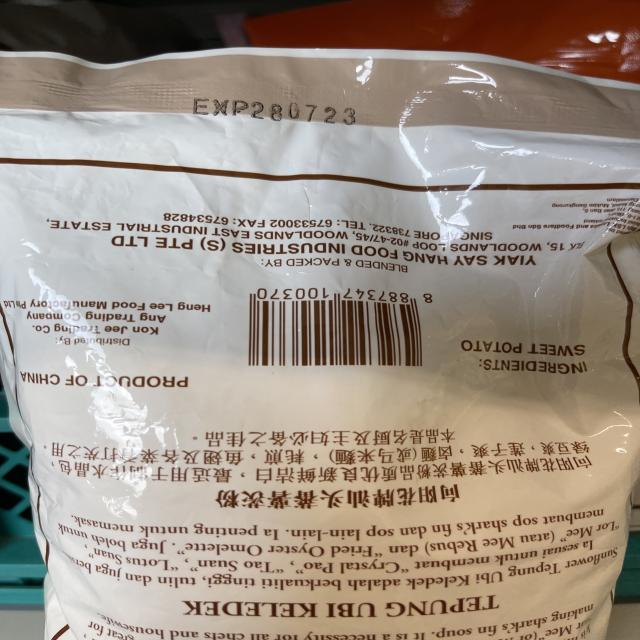object_name: (2, 55, 627, 637)
